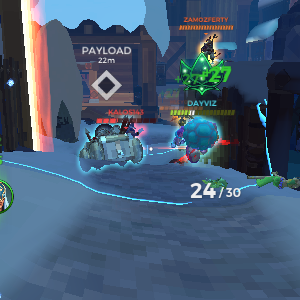model: (121, 122, 143, 155), (200, 32, 219, 64)
